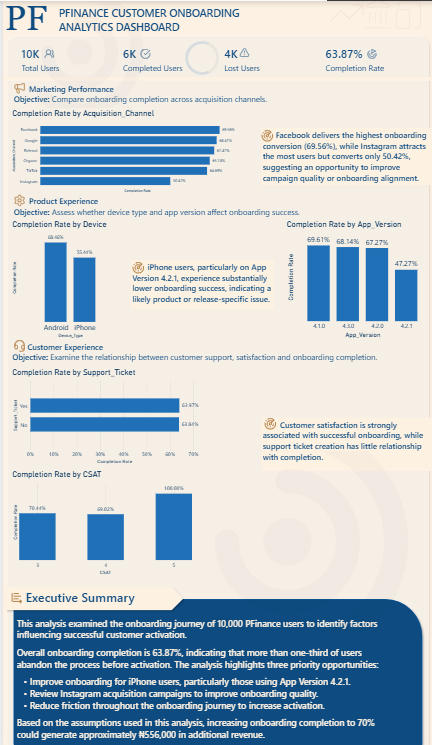

The page's visual inventory and layout, read from the dashboard file:
{"tool":"powerbi","page":{"name":"Page 1","canvas":[1300,2300],"ordinal":0},"visuals":[{"type":"shape","box":[0,108.3,1300,2191.7],"z":0},{"type":"clusteredBarChart","fields":{"Category":["payflow_onboarding_dataset.Acquisition_Channel"],"Y":["payflow_onboarding_dataset.Completion Rate"]},"box":[23.5,341.2,685.3,258.8],"z":1000},{"type":"clusteredColumnChart","title":"Completion Rate by Device","fields":{"Category":["payflow_onboarding_dataset.Device_Type"],"Y":["payflow_onboarding_dataset.Completion Rate"]},"box":[23.5,679.4,344.1,364.7],"z":2000},{"type":"clusteredColumnChart","fields":{"Y":["payflow_onboarding_dataset.Completion Rate"],"Category":["payflow_onboarding_dataset.App_Version"]},"box":[855.9,679.4,444.1,364.7],"z":3000},{"type":"clusteredBarChart","fields":{"Category":["payflow_onboarding_dataset.Support_Ticket"],"Y":["payflow_onboarding_dataset.Completion Rate"]},"box":[21.6,1127.5,592.2,294.1],"z":4000},{"type":"clusteredColumnChart","fields":{"Y":["payflow_onboarding_dataset.Completion Rate"],"Category":["payflow_onboarding_dataset.CSAT"]},"box":[21.6,1437.3,554.9,321.6],"z":5000},{"type":"textbox","box":[25,257.7,1228.8,80.8],"z":6000},{"type":"textbox","box":[23.5,1043.1,1172.5,84.3],"z":7000},{"type":"textbox","box":[100,100,300,300],"z":8000},{"type":"textbox","box":[0,0,192.7,151.2],"z":9000},{"type":"textbox","box":[165.9,22,726.8,107.3],"z":10000},{"type":"cardVisual","fields":{"Data":["payflow_onboarding_dataset.Total Users","payflow_onboarding_dataset.Completed Users","payflow_onboarding_dataset.Lost Users","payflow_onboarding_dataset.Completion Rate"]},"box":[25,129.7,1254.7,120.3],"z":11000},{"type":"textbox","box":[26.5,600,908.8,79.4],"z":12000},{"type":"shape","box":[21.4,1817.9,1257.1,469.6],"z":13000},{"type":"textbox","box":[782.4,400,517.6,173.5],"z":14000},{"type":"textbox","box":[385.3,800,435.3,150],"z":15000},{"type":"textbox","box":[782.4,1276.5,517.6,161.8],"z":16000},{"type":"textbox","box":[35.4,1860.4,1160.4,425],"z":17000},{"type":"shape","box":[0,1780.8,555.8,88.5],"z":18000},{"type":"textbox","box":[21.4,1792.9,475,67.9],"z":19000},{"type":"donutChart","fields":{"Y":["payflow_onboarding_dataset.Completed Users","payflow_onboarding_dataset.Lost Users"]},"box":[505.6,119.4,197.2,138.9],"z":20000},{"type":"shape","box":[0,246.2,1300,11.5],"z":21000},{"type":"image","box":[421.2,1378.8,878.8,551.9],"z":22000},{"type":"image","box":[1176.9,9.6,101.9,98.1],"z":23000},{"type":"image","box":[0,0,465.4,340.4],"z":24000},{"type":"image","box":[1086.5,3.8,100,100],"z":24001},{"type":"image","box":[980.8,0,119.2,103.8],"z":24002},{"type":"image","box":[28.8,257.7,46.2,38.5],"z":24003},{"type":"image","box":[28.8,1042.3,46.2,38.5],"z":24004},{"type":"image","box":[28.8,600,46.2,38.5],"z":24005},{"type":"image","box":[17.6,1805.9,47.1,38.2],"z":24006},{"type":"image","box":[1064.7,158.8,108.8,32.4],"z":24007},{"type":"image","box":[788.2,1276.5,47.1,38.2],"z":24008},{"type":"image","box":[385.3,802.9,47.1,38.2],"z":24009},{"type":"image","box":[779.4,402.9,47.1,38.2],"z":24010},{"type":"image","box":[679.4,155.9,108.8,32.4],"z":24011},{"type":"image","box":[376.5,158.8,108.8,32.4],"z":24012},{"type":"image","box":[85.3,158.8,108.8,32.4],"z":24013}]}

Visuals, with their boxes in screenshot pixels (x1, y1, x2, y2), scaled from the page's 1300x2300 canvas onto the 432x745 screenshot:
shape: <box>0,35,431,744</box>
clusteredBarChart - payflow_onboarding_dataset.Acquisition_Channel x payflow_onboarding_dataset.Completion Rate: <box>8,111,236,194</box>
"Completion Rate by Device" clusteredColumnChart: <box>8,220,122,338</box>
clusteredColumnChart - payflow_onboarding_dataset.Completion Rate x payflow_onboarding_dataset.App_Version: <box>284,220,431,338</box>
clusteredBarChart - payflow_onboarding_dataset.Support_Ticket x payflow_onboarding_dataset.Completion Rate: <box>7,365,204,460</box>
clusteredColumnChart - payflow_onboarding_dataset.Completion Rate x payflow_onboarding_dataset.CSAT: <box>7,466,192,570</box>
textbox: <box>8,83,417,110</box>
textbox: <box>8,338,397,365</box>
textbox: <box>33,32,133,130</box>
textbox: <box>0,0,64,49</box>
textbox: <box>55,7,297,42</box>
cardVisual - payflow_onboarding_dataset.Total Users x payflow_onboarding_dataset.Completed Users: <box>8,42,425,81</box>
textbox: <box>9,194,311,220</box>
shape: <box>7,589,425,741</box>
textbox: <box>260,130,431,186</box>
textbox: <box>128,259,273,308</box>
textbox: <box>260,413,431,466</box>
textbox: <box>12,603,397,740</box>
shape: <box>0,577,185,605</box>
textbox: <box>7,581,165,603</box>
donutChart - payflow_onboarding_dataset.Completed Users x payflow_onboarding_dataset.Lost Users: <box>168,39,234,84</box>
shape: <box>0,80,431,83</box>
image: <box>140,447,431,625</box>
image: <box>391,3,425,35</box>
image: <box>0,0,155,110</box>
image: <box>361,1,394,34</box>
image: <box>326,0,366,34</box>
image: <box>10,83,25,96</box>
image: <box>10,338,25,350</box>
image: <box>10,194,25,207</box>
image: <box>6,585,22,597</box>
image: <box>354,51,390,62</box>
image: <box>262,413,278,426</box>
image: <box>128,260,144,272</box>
image: <box>259,131,275,143</box>
image: <box>226,50,262,61</box>
image: <box>125,51,161,62</box>
image: <box>28,51,65,62</box>
